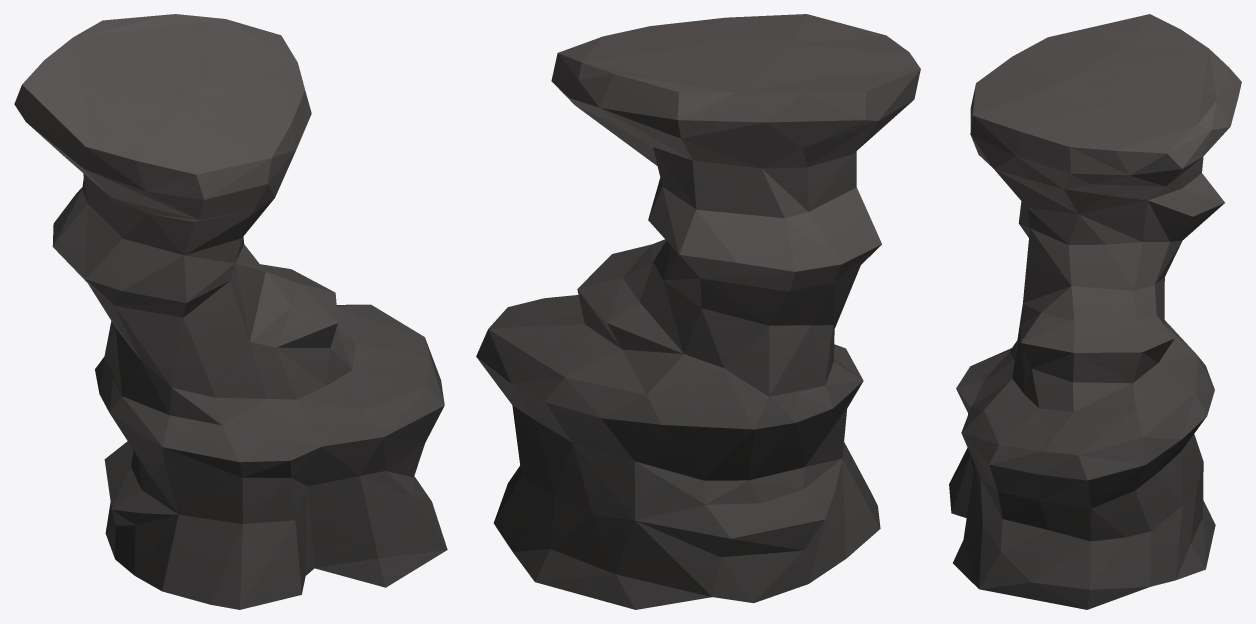
File: ZLP_Rock_D_12.FBX
The picture shows the model from 3 angles, left to right: view 1: azimuth 30°, elevation 25°; view 2: azimuth 150°, elevation 25°; view 3: azimuth 270°, elevation 25°; orthographic projection. The views are drawn at different scales.
Visible parts, largest first — view 1: ZLP_Rock_D_12; view 2: ZLP_Rock_D_12; view 3: ZLP_Rock_D_12.
Part boxes in pixels (x1,y1,x2,y2): ZLP_Rock_D_12: (14, 14, 447, 609); ZLP_Rock_D_12: (476, 14, 920, 609); ZLP_Rock_D_12: (949, 14, 1241, 609).
Size of the model in its own units: 162 by 201 by 121.
